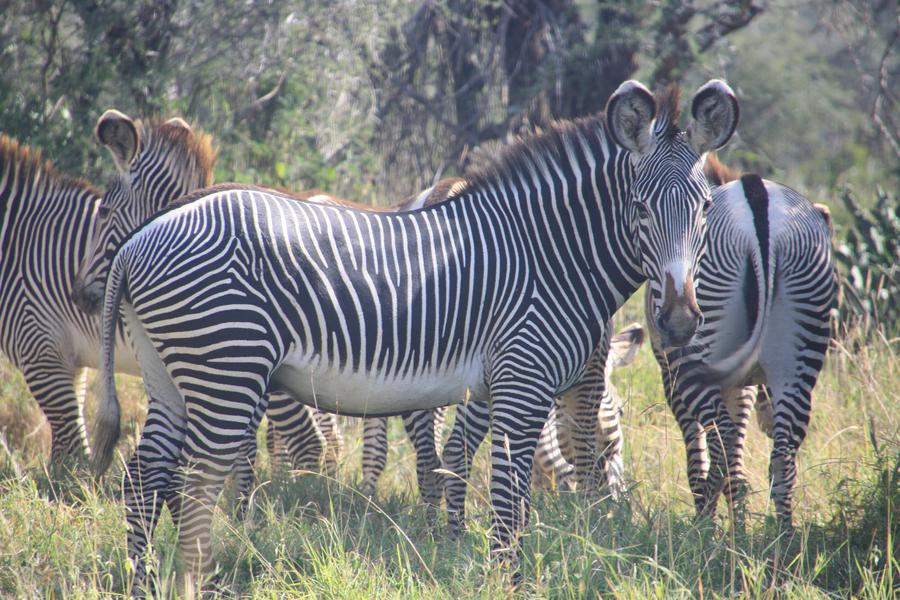zebra_grevys: (119, 193, 575, 386)
